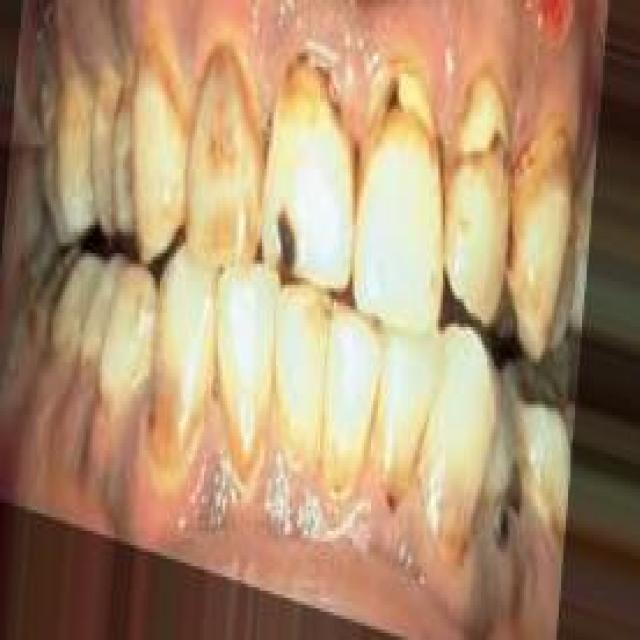caries: (365, 47, 437, 146), (454, 78, 516, 172), (292, 46, 348, 124), (270, 205, 312, 284), (491, 463, 528, 552)
